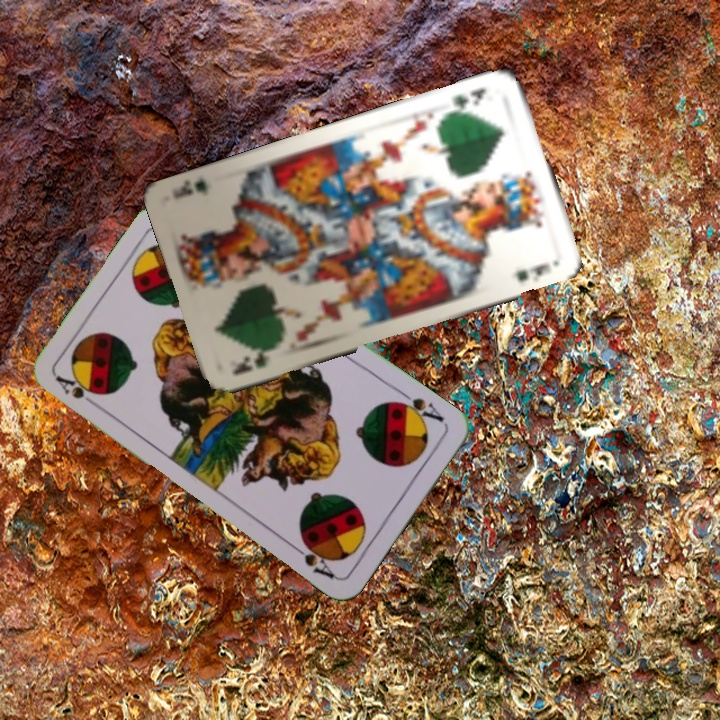GK: (229, 344, 281, 378), (446, 84, 489, 116)
SA: (390, 387, 446, 428), (51, 371, 104, 412)
